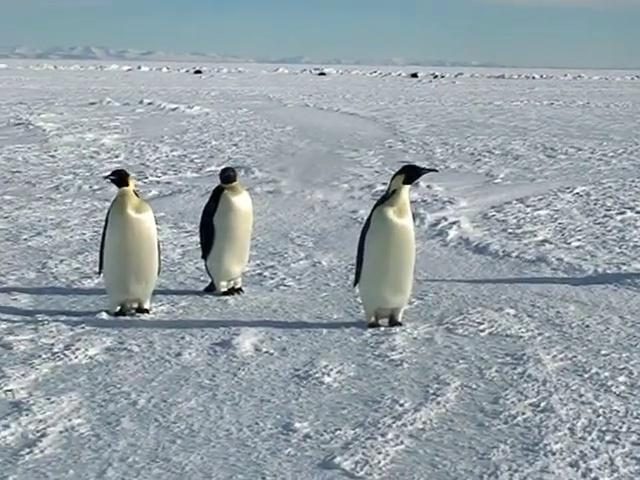animal: (354, 165, 437, 326)
